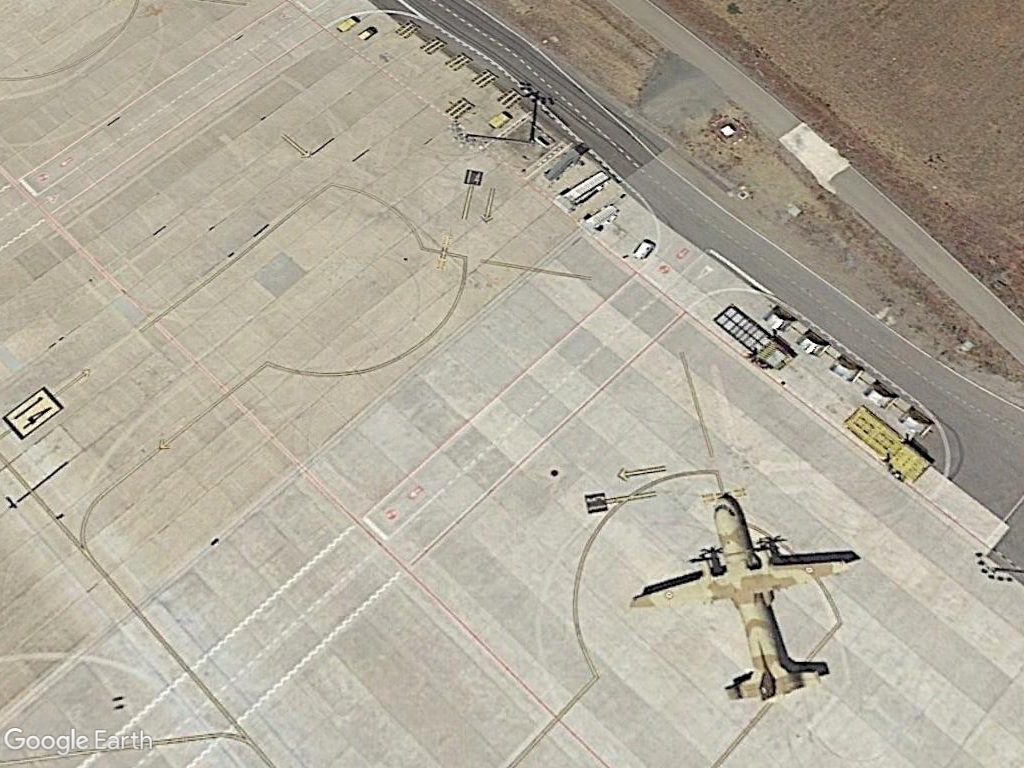propeller: (626, 486, 864, 713)
